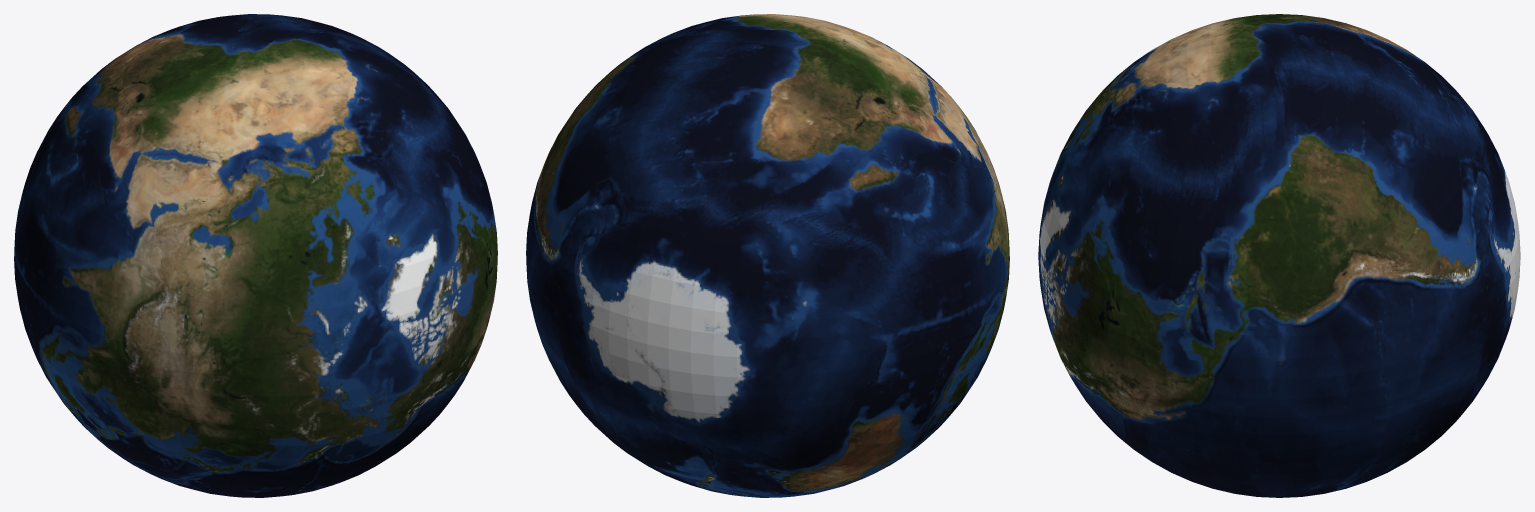
Rendered from earth.obj.
3 renders of one model, left to right at view 1: azimuth 30°, elevation 25°; view 2: azimuth 150°, elevation 25°; view 3: azimuth 270°, elevation 25°, orthographic.
Visible parts, largest first — view 1: Object.1; view 2: Object.1; view 3: Object.1.
Boxes of the visible parts, x1,y1,x2,y2 form: Object.1: (14, 14, 497, 497); Object.1: (526, 14, 1009, 497); Object.1: (1038, 14, 1520, 497).
Bounding box in the file's own units: 1000000 × 1000000 × 996647.
